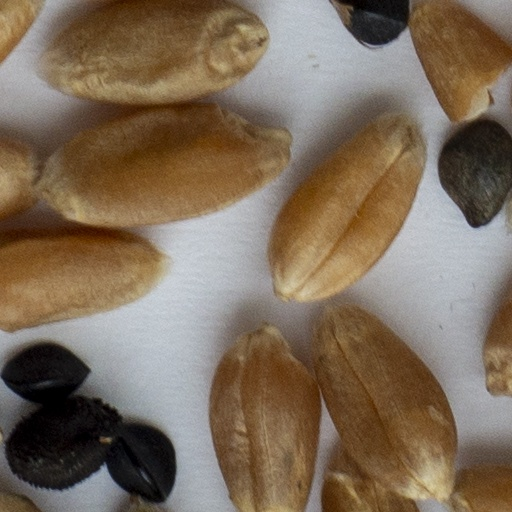Convolvulus-poly: (436, 119, 511, 231)
Fallopia-Сonvolvulus-poly: (325, 0, 410, 50)
Wheat-grain-damaged-poly: (408, 0, 511, 124)
